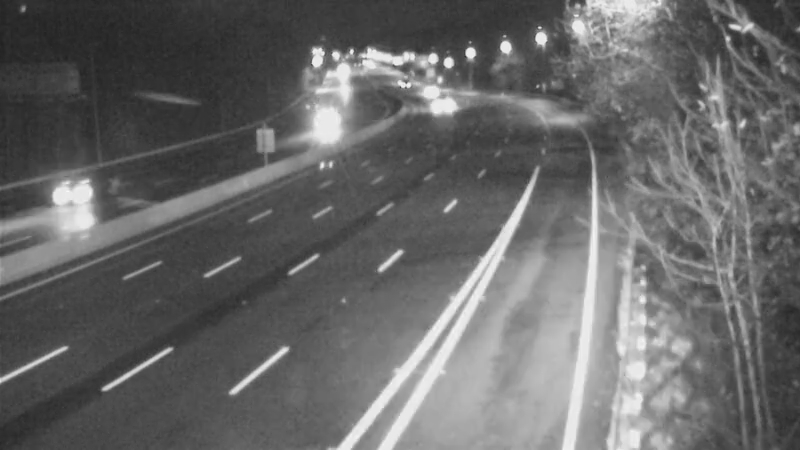vehicle: (36, 149, 116, 229), (378, 54, 428, 104), (399, 62, 449, 112), (417, 79, 467, 129), (294, 93, 344, 143)
